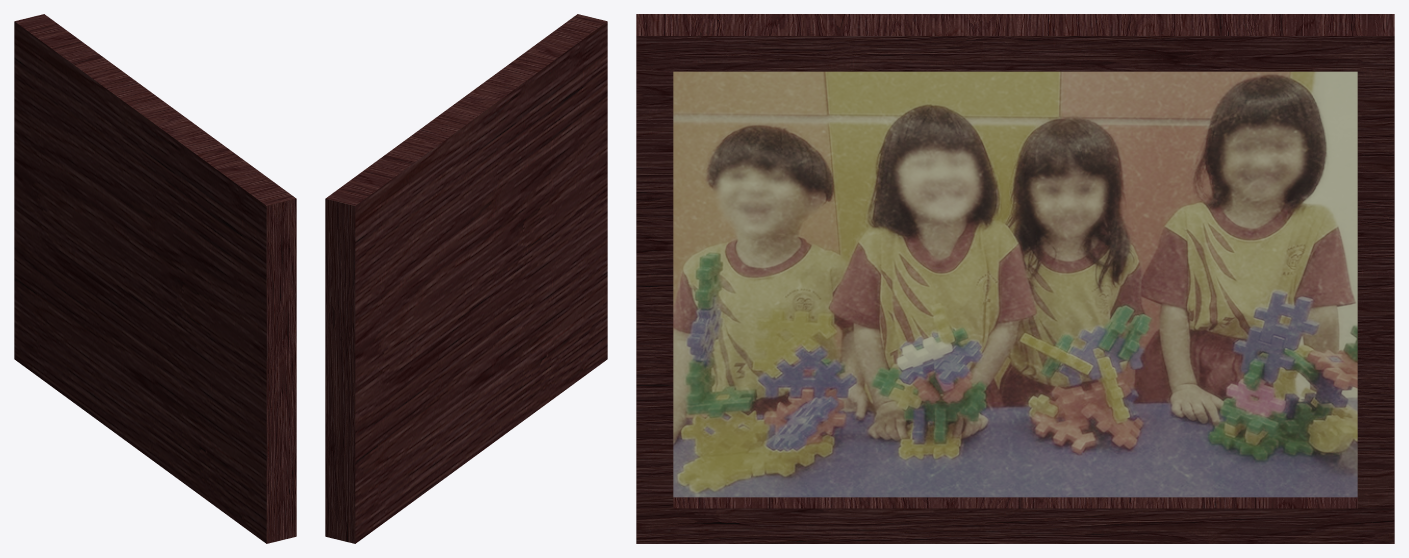
The model's file is frame3_2_emmie with friends.FBX.
3 views of the same model, side by side, from view 1: azimuth 30°, elevation 25°; view 2: azimuth 150°, elevation 25°; view 3: azimuth 270°, elevation 25° (orthographic). The views are drawn at different scales.
Parts seen in each view (by area): view 1: wall frame003; view 2: wall frame003; view 3: wall frame003.
Boxes of the visible parts, left/top/right/bottom form: wall frame003: left=14, top=14, right=296, bottom=543; wall frame003: left=325, top=14, right=607, bottom=543; wall frame003: left=636, top=14, right=1394, bottom=543.
Size of the model in its own units: 1.64 by 17.68 by 23.92.
1 material, 1 textured.
